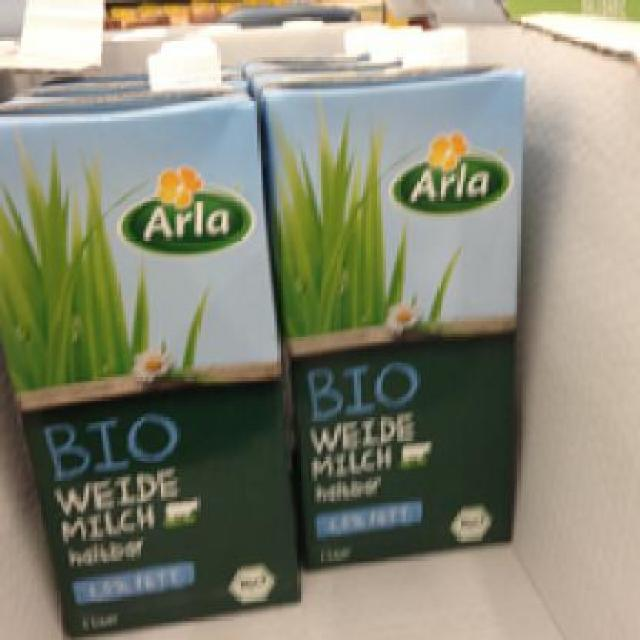Milk: (0, 77, 303, 632), (266, 31, 534, 558)
